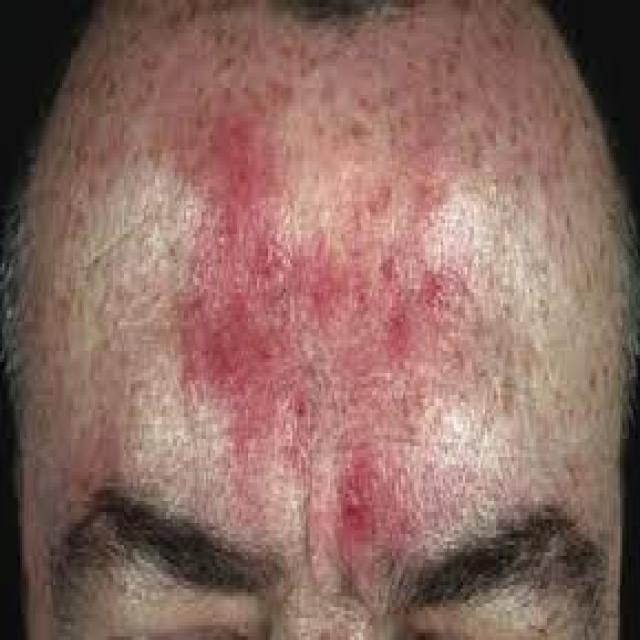Rosacea: (164, 98, 474, 580)
